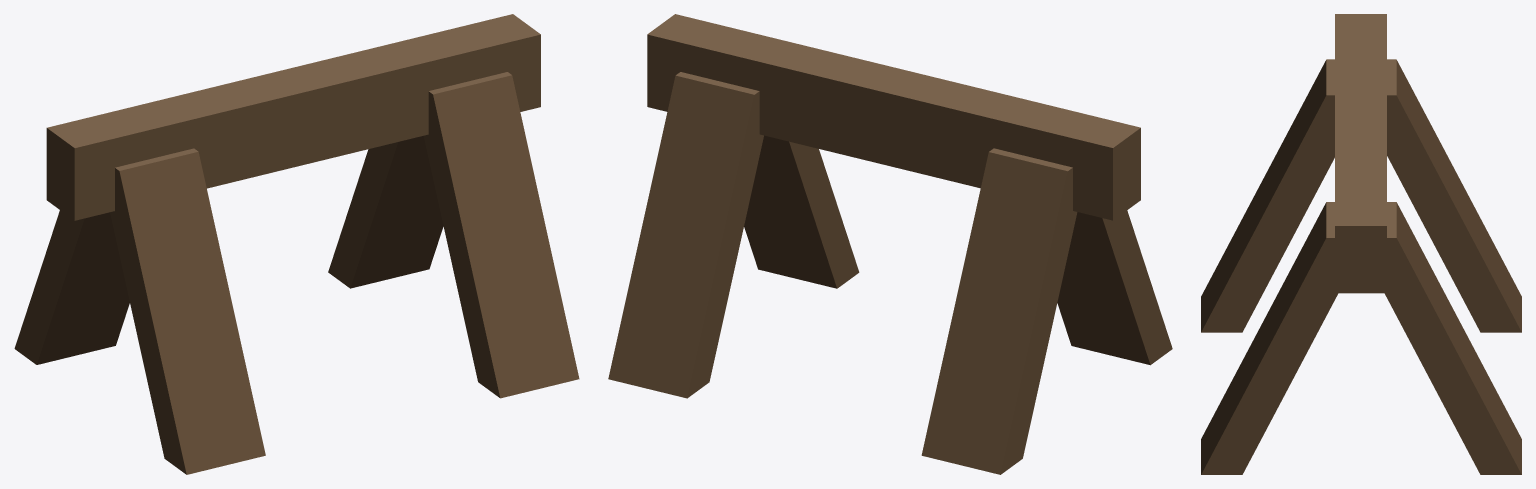
File: Easel_A1.fbx
3 views of the same model, side by side, from view 1: azimuth 30°, elevation 25°; view 2: azimuth 150°, elevation 25°; view 3: azimuth 270°, elevation 25° (orthographic). The views are drawn at different scales.
Visible parts, largest first — view 1: Easel_A1; view 2: Easel_A1; view 3: Easel_A1.
Part boxes in pixels (left/top/right/bottom): Easel_A1: left=14, top=14, right=579, bottom=474; Easel_A1: left=608, top=14, right=1172, bottom=474; Easel_A1: left=1201, top=14, right=1521, bottom=474.
Bounding box in the file's own units: 196 × 114 × 126.
Materials: 1 (1 with a texture image).
